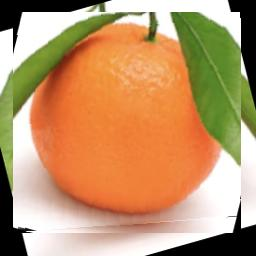Orange Fresh: (14, 13, 242, 234)
